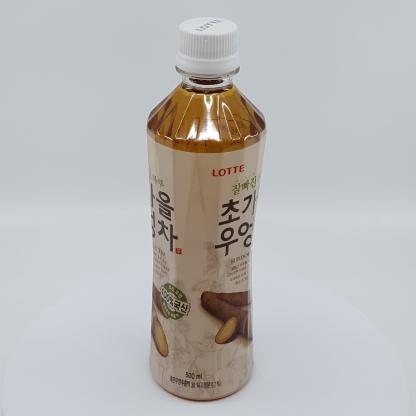----------500ML: (146, 17, 266, 400)
